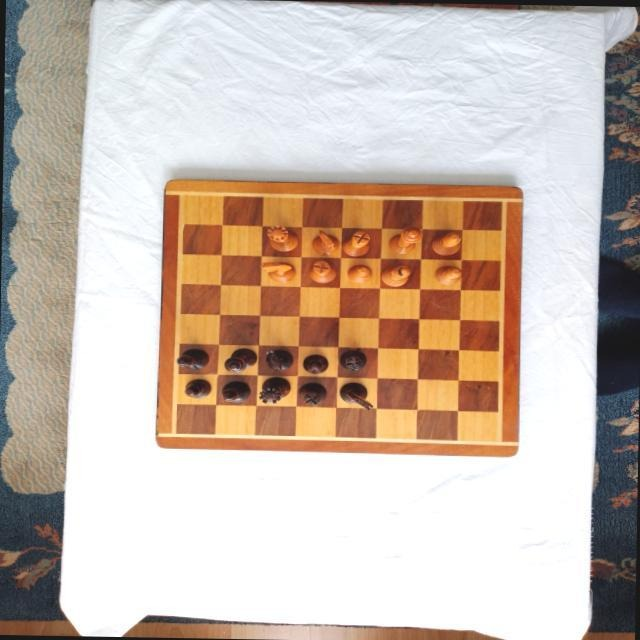black-bishop: (175, 346, 208, 369), (219, 379, 249, 402)
black-king: (223, 346, 257, 373)
black-knight: (339, 381, 373, 409), (264, 348, 292, 371)
black-pawn: (184, 378, 212, 398), (303, 353, 329, 373)
black-queen: (258, 374, 290, 403)
black-rook: (298, 380, 326, 405), (338, 349, 366, 371)
white-bishop: (430, 230, 462, 254), (381, 263, 411, 286)
white-king: (387, 224, 423, 253)
white-knight: (310, 227, 340, 254), (260, 259, 296, 281)
white-pawn: (434, 264, 462, 283), (347, 263, 373, 281)
white-queen: (266, 223, 298, 250)
white-rook: (342, 228, 370, 256), (307, 258, 336, 281)
